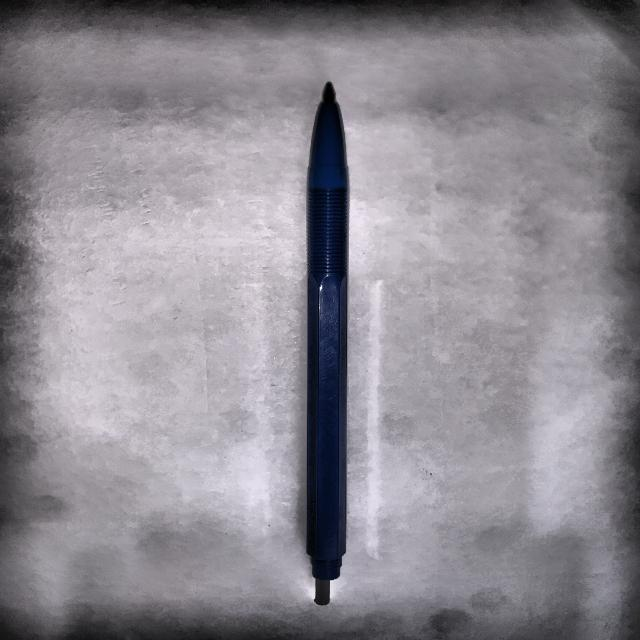Pulpen: (273, 80, 384, 617)
